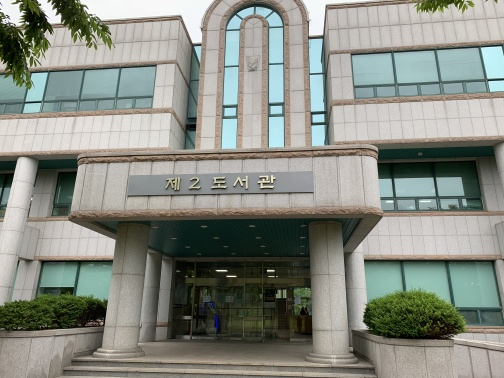Second Library: (14, 37, 493, 369), (92, 6, 380, 378), (117, 149, 340, 224)
